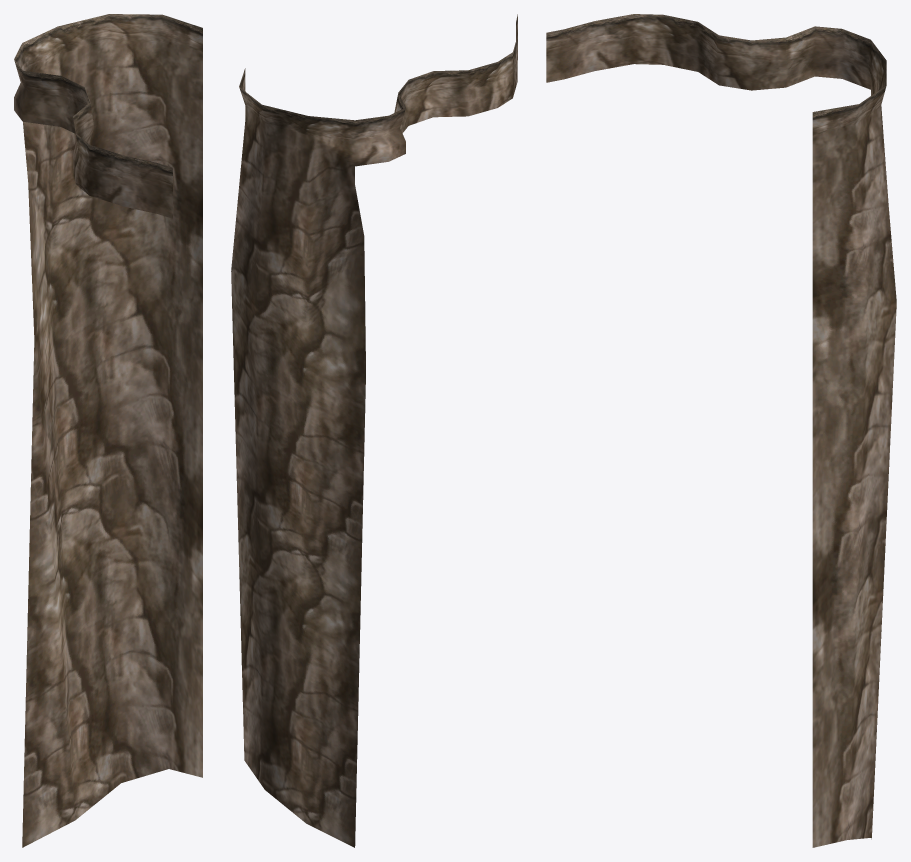
The model's file is OVERHILL_A_01_LINE111.fbx.
3 views of the same model, side by side, from view 1: azimuth 30°, elevation 25°; view 2: azimuth 150°, elevation 25°; view 3: azimuth 270°, elevation 25° (orthographic). The views are drawn at different scales.
Parts seen in each view (by area): view 1: OVERHILL_A_01_LINE111; view 2: OVERHILL_A_01_LINE111; view 3: OVERHILL_A_01_LINE111.
Boxes of the visible parts, x1,y1,x2,y2 form: OVERHILL_A_01_LINE111: (14,14,202,847); OVERHILL_A_01_LINE111: (231,14,517,847); OVERHILL_A_01_LINE111: (546,14,896,847).
Bounding box in the file's own units: 73193 × 274946 × 110608.
Materials: 2 (2 with a texture image).
